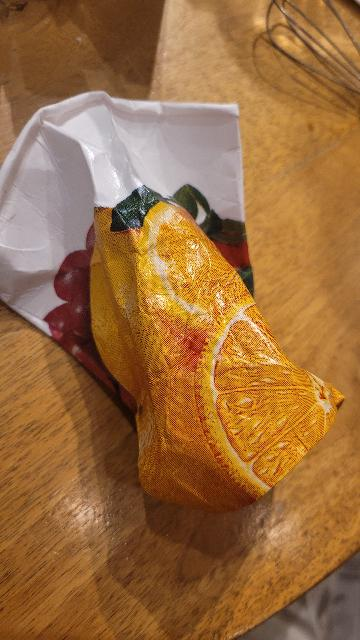Kagit: (3, 79, 348, 523)
